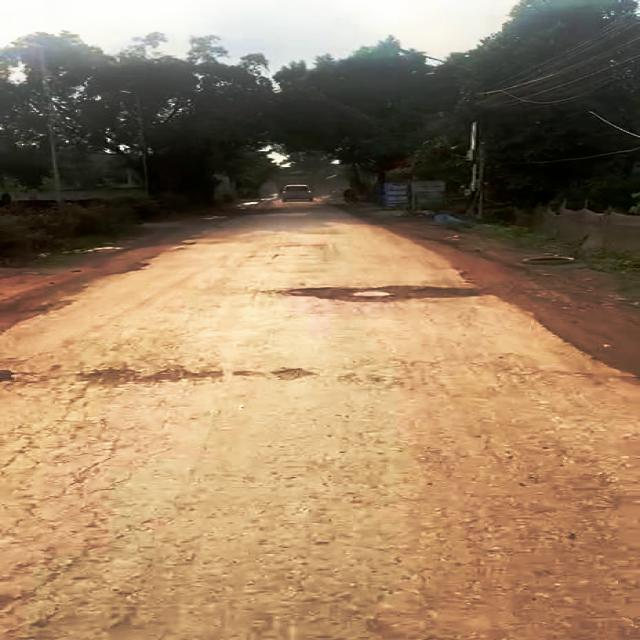pothole: (271, 278, 488, 306)
